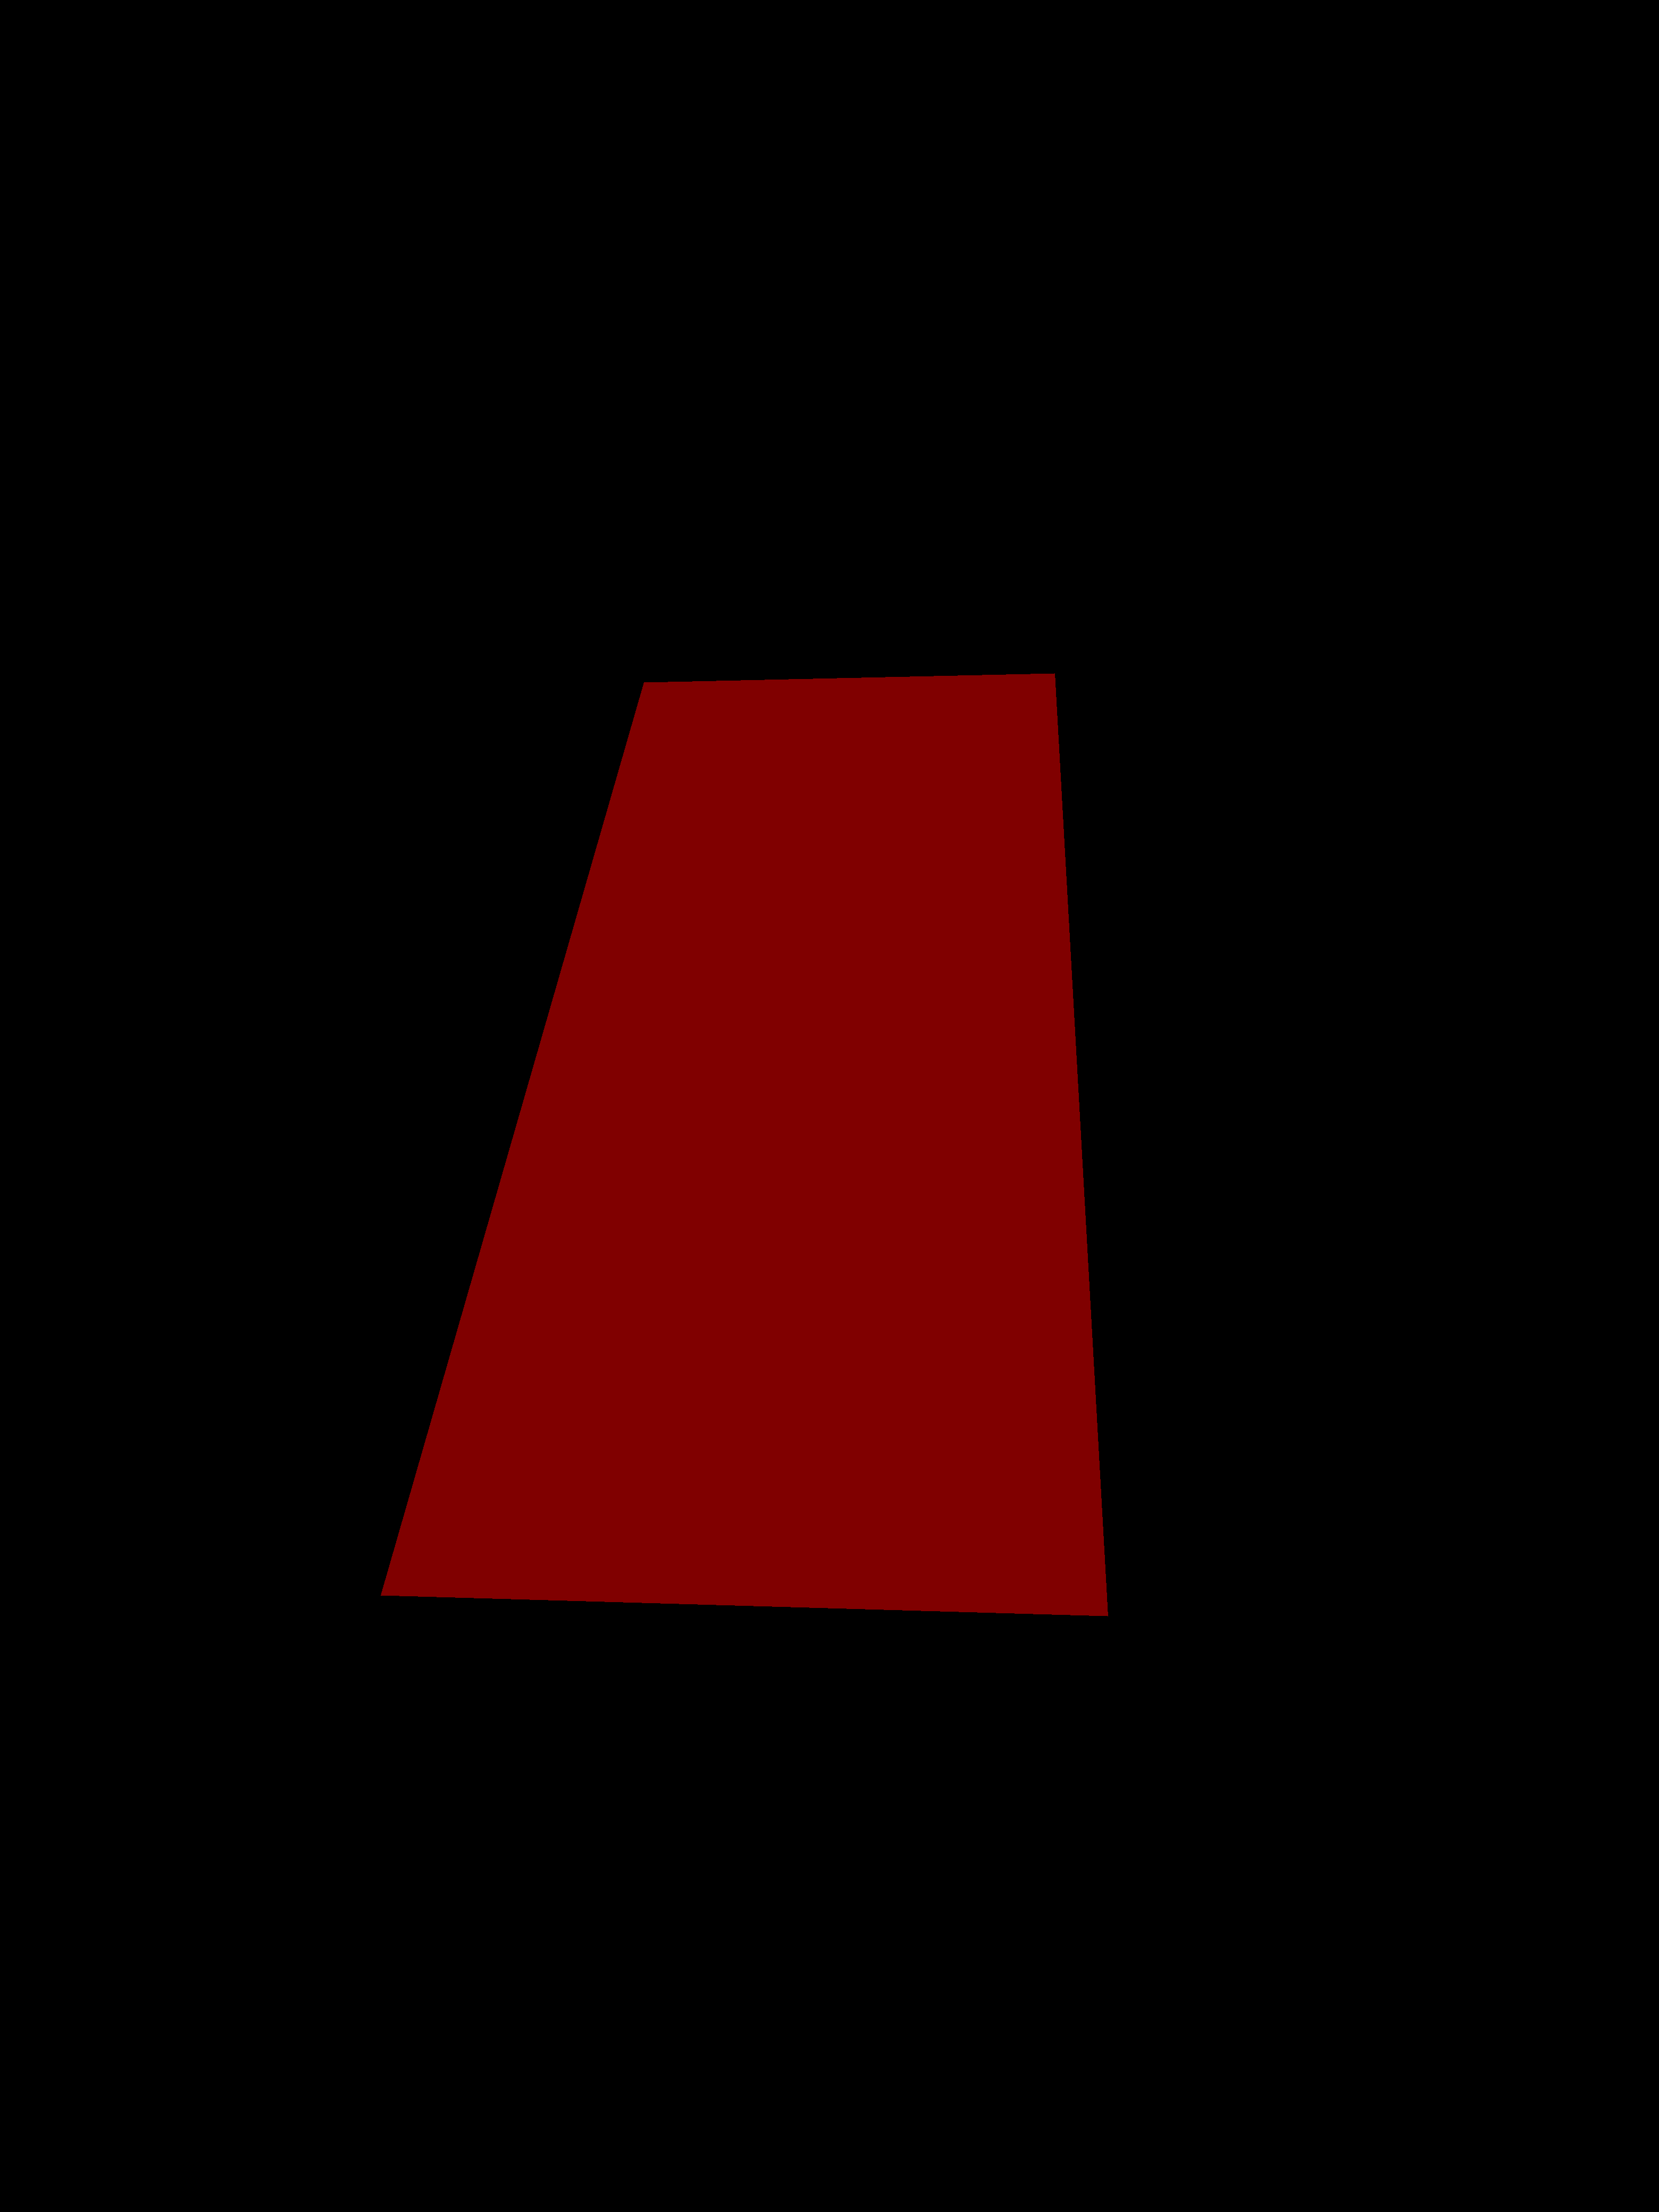stair: (380, 672, 1108, 1616)
